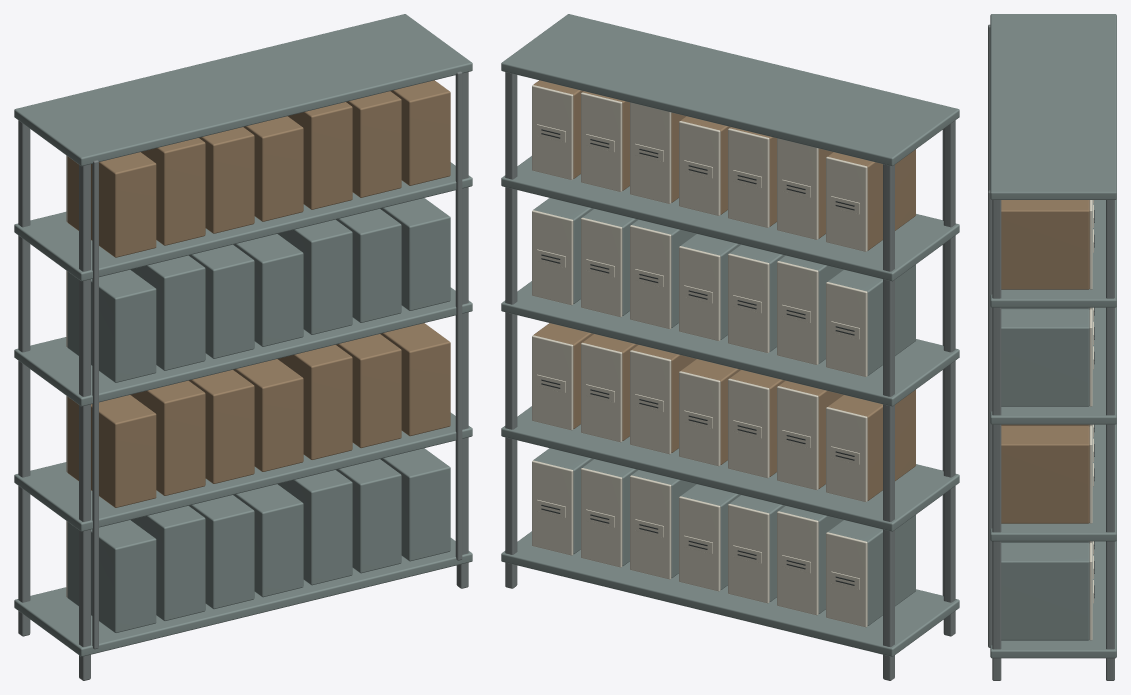
File: StationArchiveRack.fbx
3 views of the same model, side by side, from view 1: azimuth 30°, elevation 25°; view 2: azimuth 150°, elevation 25°; view 3: azimuth 270°, elevation 25° (orthographic). The views are drawn at different scales.
Visible parts, largest first — view 1: StationArchiveRack_Paint, StationArchiveRack_Timber, StationArchiveRack_Steel; view 2: StationArchiveRack_Paper, StationArchiveRack_Paint, StationArchiveRack_Timber, StationArchiveRack_Steel, StationArchiveRack_Ink; view 3: StationArchiveRack_Paint, StationArchiveRack_Timber, StationArchiveRack_Steel, StationArchiveRack_Paper.
Part boxes in pixels (bbox=[...]): StationArchiveRack_Paint: bbox=[14, 14, 472, 656]; StationArchiveRack_Timber: bbox=[67, 80, 450, 507]; StationArchiveRack_Steel: bbox=[18, 71, 468, 680]; StationArchiveRack_Paper: bbox=[532, 85, 867, 627]; StationArchiveRack_Paint: bbox=[501, 14, 959, 656]; StationArchiveRack_Timber: bbox=[533, 80, 915, 500]; StationArchiveRack_Steel: bbox=[505, 72, 955, 680]; StationArchiveRack_Ink: bbox=[541, 129, 854, 585]; StationArchiveRack_Paint: bbox=[990, 14, 1116, 658]; StationArchiveRack_Timber: bbox=[1001, 200, 1089, 523]; StationArchiveRack_Steel: bbox=[988, 24, 1114, 680]; StationArchiveRack_Paper: bbox=[1089, 200, 1093, 640].
Size of the model in its own units: 164 by 210 by 49.9.
